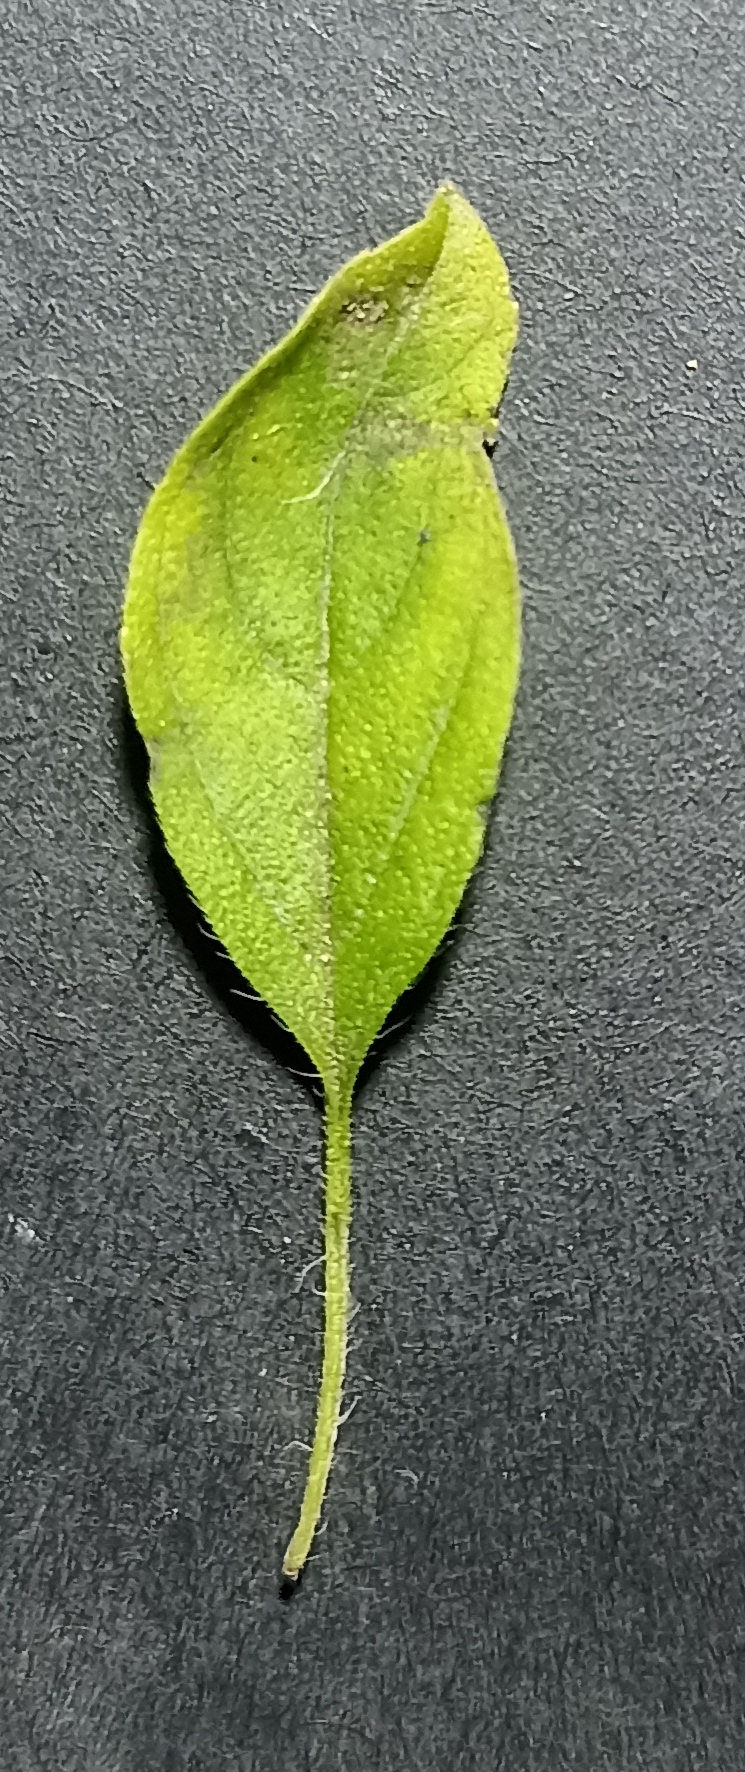Unhealthy: (107, 107, 545, 1069)
